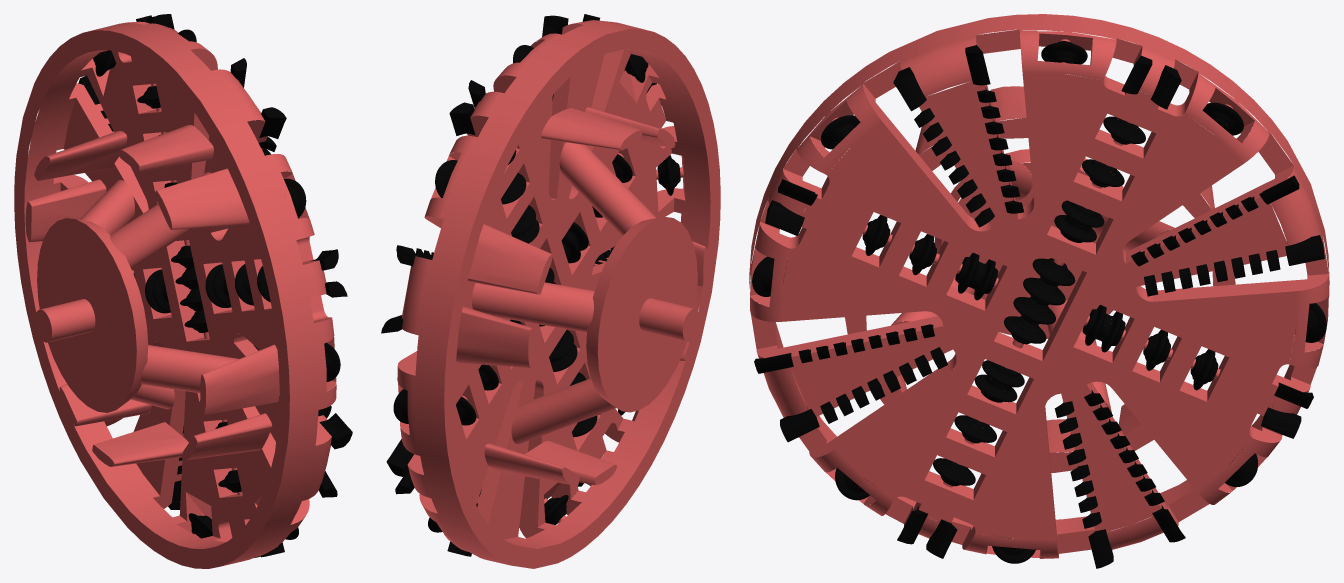
File: TOU0.gltf
3 renders of one model, left to right at view 1: azimuth 30°, elevation 25°; view 2: azimuth 150°, elevation 25°; view 3: azimuth 270°, elevation 25°, orthographic. The views are drawn at different scales.
Visible parts, largest first — view 1: ??, ??003; view 2: ??, ??003; view 3: ??, ??003.
Boxes of the visible parts, box(x1,y1,x2,y2) form: ??: box(14, 21, 336, 568); ??003: box(78, 14, 352, 557); ??: box(397, 20, 720, 568); ??003: box(381, 14, 680, 556); ??: box(749, 14, 1329, 558); ??003: box(752, 41, 1326, 568).
Bounding box in the file's own units: 2243 × 6147 × 6147.
